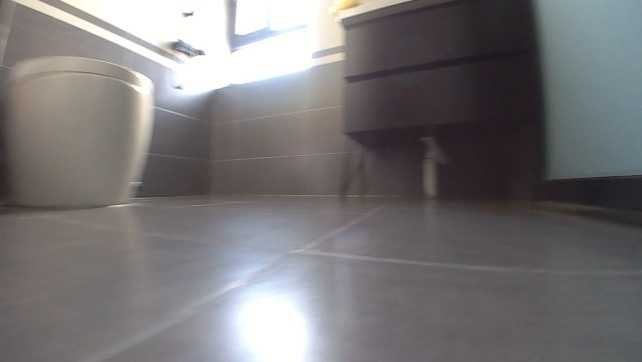toilet: (5, 52, 156, 210)
washstand: (334, 0, 541, 205)
